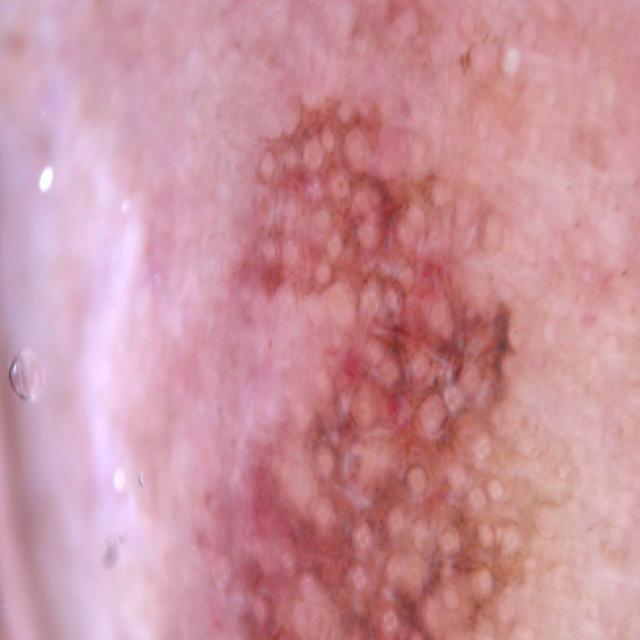Keratosis: (154, 108, 580, 640)
